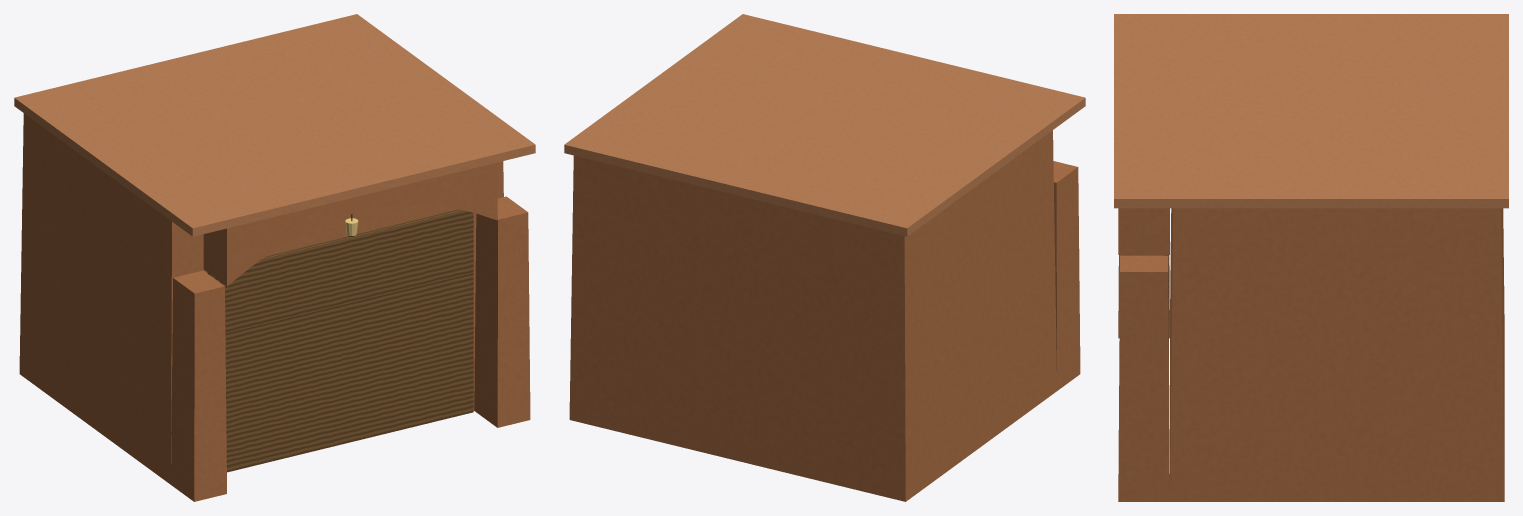
The model's file is SM_Souq_Stall_W5D45H38.fbx.
3 views of the same model, side by side, from view 1: azimuth 30°, elevation 25°; view 2: azimuth 150°, elevation 25°; view 3: azimuth 270°, elevation 25° (orthographic). The views are drawn at different scales.
Parts seen in each view (by area): view 1: SM_Souq_Stall_W5D45H38; view 2: SM_Souq_Stall_W5D45H38; view 3: SM_Souq_Stall_W5D45H38.
Part boxes in pixels (<box>): SM_Souq_Stall_W5D45H38: <box>14,14,535,501</box>; SM_Souq_Stall_W5D45H38: <box>564,14,1085,501</box>; SM_Souq_Stall_W5D45H38: <box>1114,14,1508,501</box>.
Size of the model in its own units: 5.1 by 3.92 by 4.6.
Materials: 5 (5 with a texture image).
